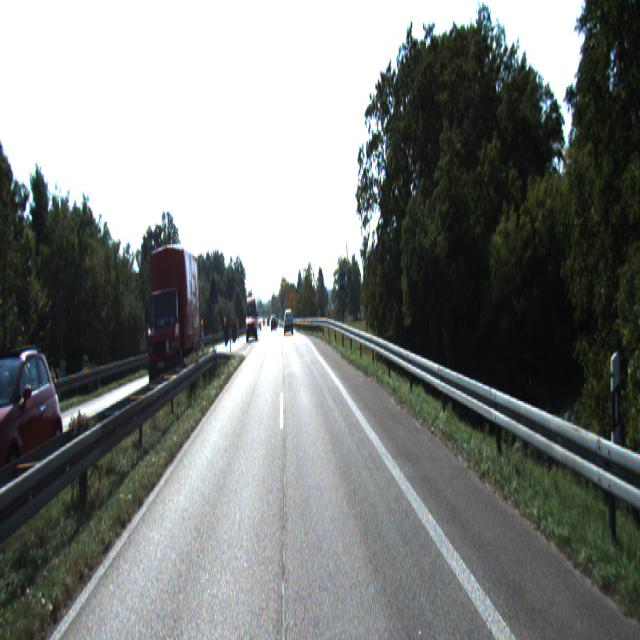Car: (0, 325, 67, 502), (144, 242, 202, 394), (246, 293, 260, 342), (284, 309, 294, 333)
